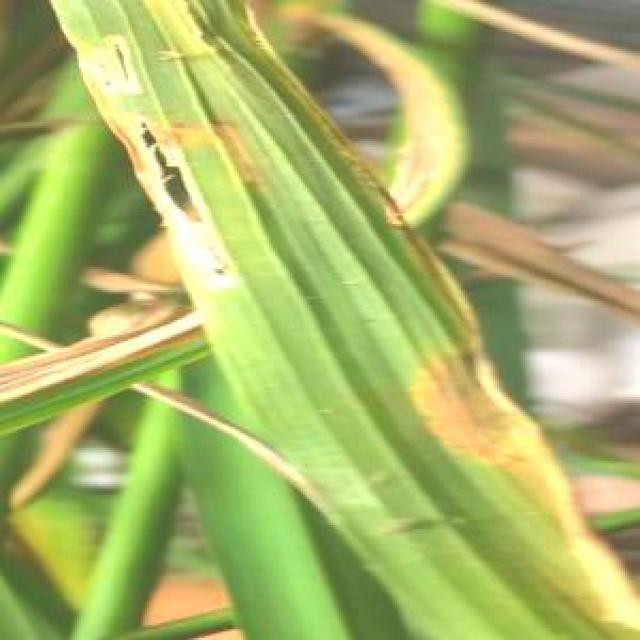Rice_Bacterial_Blight: (310, 324, 570, 638)
